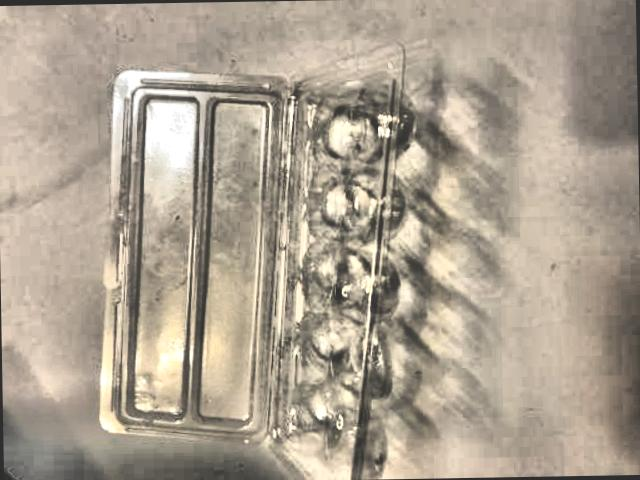Plastic: (42, 30, 464, 480)
